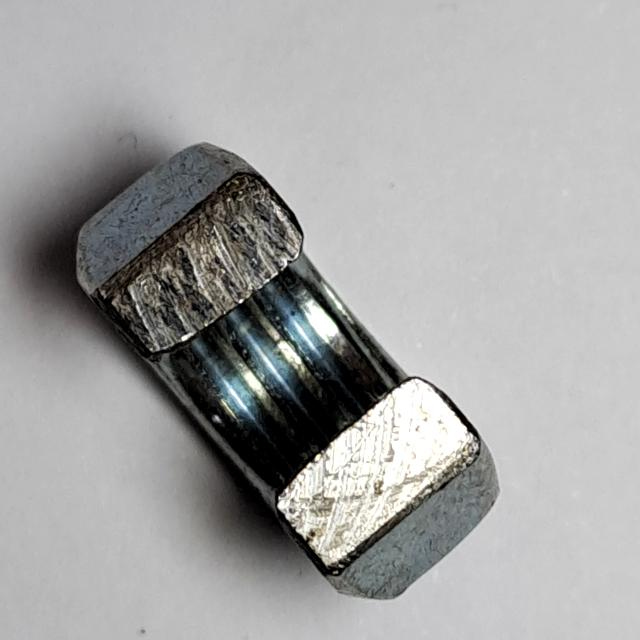Side-Fracture: (60, 136, 524, 620)
